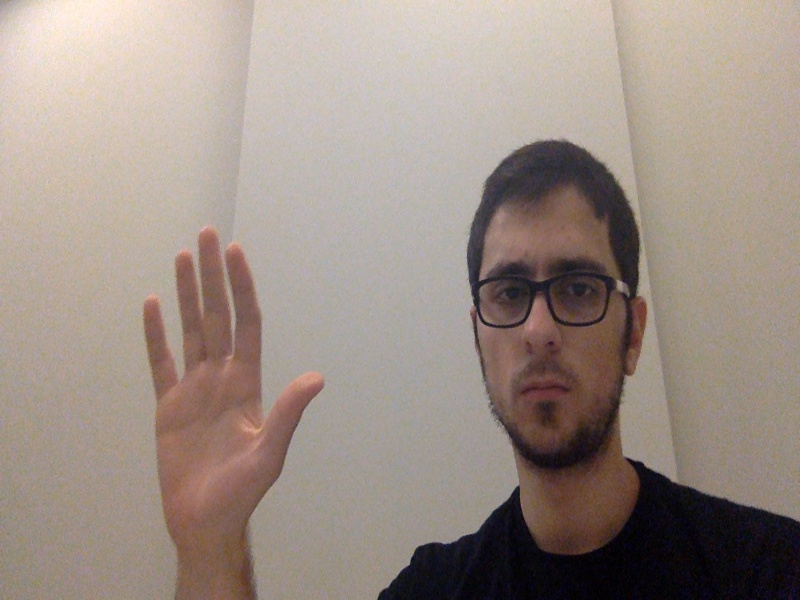5-hand: (118, 220, 335, 539)
